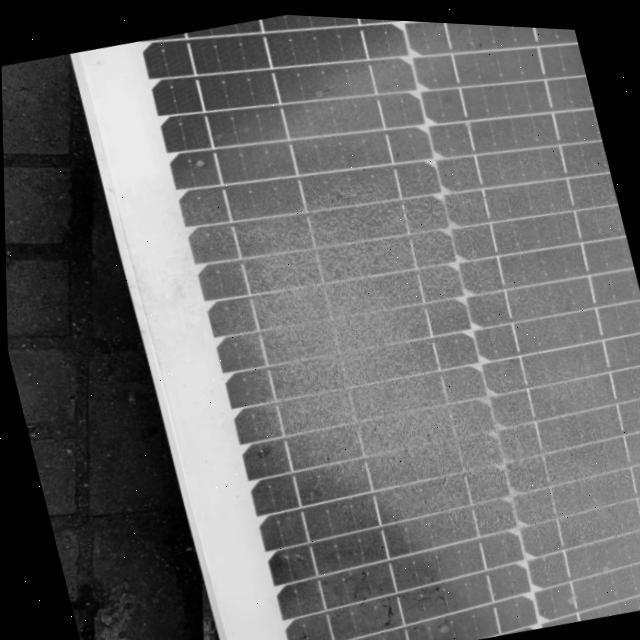Anomaly Solar Panel: (107, 4, 640, 640)
Surface Contaminant: (143, 19, 640, 640)
